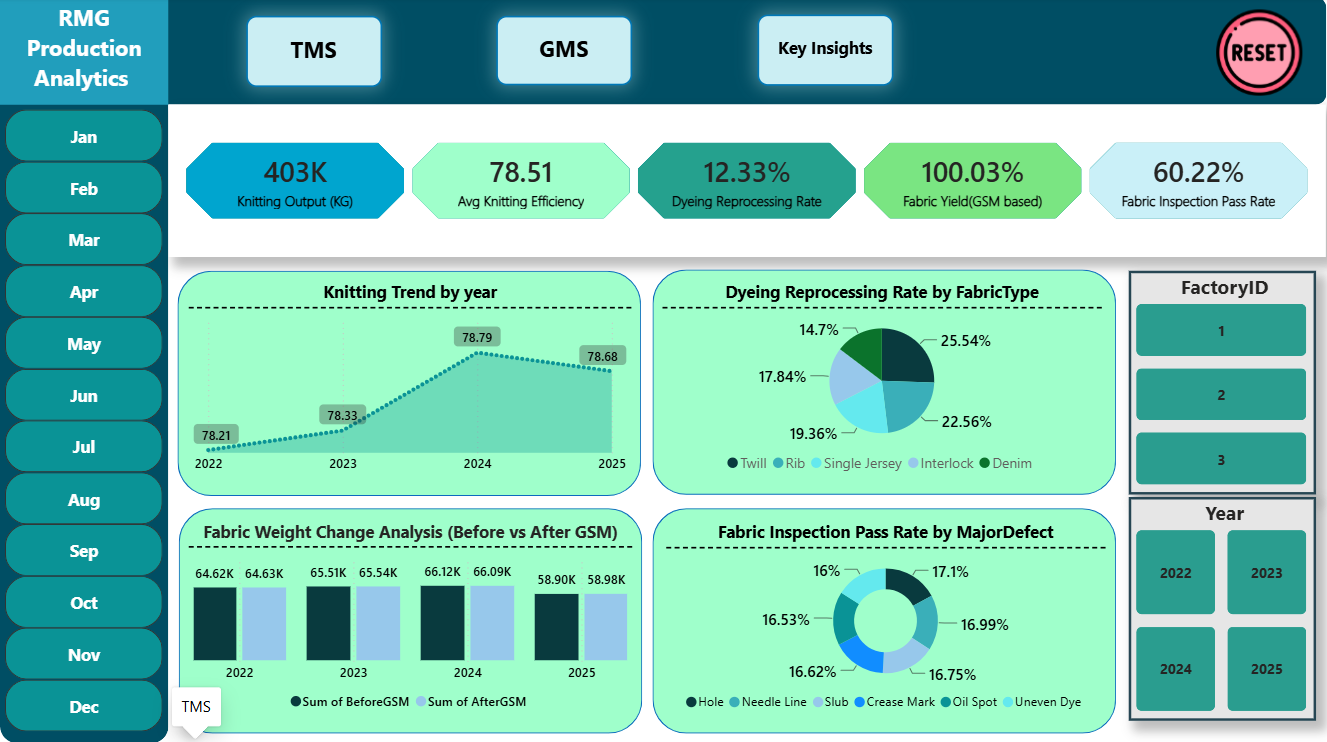

The dashboard page shown, as its layout file describes it:
{"tool":"powerbi","page":{"name":"TMS","canvas":[1280,720],"ordinal":0},"visuals":[{"type":"shape","box":[0,0,1280.3,103.9],"z":0},{"type":"shape","box":[0,0,162.6,720.2],"z":1000},{"type":"textbox","box":[0,0,162.6,103.9],"z":2000},{"type":"cardVisual","fields":{"Data":["All measure table.Knitting Output (KG)","All measure table.Avg Knitting Efficiency","All measure table.Dyeing Reprocessing Rate","All measure table.Fabric Yield(GSM based)","All measure table.Fabric Inspection Pass Rate"]},"box":[162.9,103.8,1117.2,147.2],"z":3000},{"type":"shape","box":[171.2,263.8,447.5,217.5],"z":4000},{"type":"listSlicer","fields":{"Values":["dim_date.MonthName"]},"box":[447.5,581.2,162.5,138.8],"z":5000},{"type":"advancedSlicerVisual","fields":{"Values":["dim_date.MonthName"]},"box":[0,103.8,162.5,616.2],"z":6000},{"type":"stackedAreaChart","title":"Knitting Trend by  year ","fields":{"Category":["dim_date.Year"],"Y":["All measure table.Avg Knitting Efficiency"]},"box":[182.5,272.5,427.5,196.2],"z":7000},{"type":"shape","box":[630,262.5,447.5,217.5],"z":8000},{"type":"shape","box":[172.5,493.8,447.5,217.5],"z":9000},{"type":"shape","box":[630,493.8,447.5,217.5],"z":10000},{"type":"pieChart","fields":{"Category":["fact_dyeing.FabricType"],"Y":["All measure table.Dyeing Reprocessing Rate"]},"box":[640,272.5,423.8,196.2],"z":11000},{"type":"clusteredColumnChart","title":"Fabric Weight Change Analysis (Before vs After GSM)","fields":{"Category":["dim_date.Year"],"Y":["Sum(fact_fabric_finishing.BeforeGSM)","Sum(fact_fabric_finishing.AfterGSM)"]},"box":[182.2,504.3,428.3,194.2],"z":12000},{"type":"donutChart","fields":{"Category":["fact_fabric_inspection.MajorDefect"],"Y":["All measure table.Fabric Inspection Pass Rate"]},"box":[643.2,504.2,423.6,194.9],"z":13000},{"type":"advancedSlicerVisual","fields":{"Values":["dim_factory.FactoryID"]},"box":[1089.2,264.1,180.7,216.1],"z":14000},{"type":"advancedSlicerVisual","fields":{"Values":["dim_date.Year"]},"box":[1089.2,482.7,180.7,216.1],"z":15000},{"type":"actionButton","title":"TMS","box":[237.7,18.1,131,68.8],"z":16000},{"type":"actionButton","title":"GMS","box":[479,18.1,131.5,67.6],"z":17000},{"type":"actionButton","box":[731.1,16.9,131.5,68.8],"z":18000},{"type":"actionButton","box":[1161.8,0,118.2,107.4],"z":19000}]}

Visuals, with their boxes in screenshot pixels (x1, y1, x2, y2), scaled from the page's 1280x720 canvas onto the 1327x742 screenshot:
shape: left=0, top=0, right=1326, bottom=107
shape: left=0, top=0, right=169, bottom=741
textbox: left=0, top=0, right=169, bottom=107
cardVisual - All measure table.Knitting Output (KG) x All measure table.Avg Knitting Efficiency: left=169, top=107, right=1326, bottom=259
shape: left=177, top=272, right=641, bottom=496
listSlicer - dim_date.MonthName: left=464, top=599, right=632, bottom=741
advancedSlicerVisual - dim_date.MonthName: left=0, top=107, right=168, bottom=741
"Knitting Trend by  year " stackedAreaChart: left=189, top=281, right=632, bottom=483
shape: left=653, top=271, right=1117, bottom=495
shape: left=179, top=509, right=643, bottom=733
shape: left=653, top=509, right=1117, bottom=733
pieChart - fact_dyeing.FabricType x All measure table.Dyeing Reprocessing Rate: left=664, top=281, right=1103, bottom=483
"Fabric Weight Change Analysis (Before vs After GSM)" clusteredColumnChart: left=189, top=520, right=633, bottom=720
donutChart - fact_fabric_inspection.MajorDefect x All measure table.Fabric Inspection Pass Rate: left=667, top=520, right=1106, bottom=720
advancedSlicerVisual - dim_factory.FactoryID: left=1129, top=272, right=1317, bottom=495
advancedSlicerVisual - dim_date.Year: left=1129, top=497, right=1317, bottom=720
"TMS" actionButton: left=246, top=19, right=382, bottom=90
"GMS" actionButton: left=497, top=19, right=633, bottom=88
actionButton: left=758, top=17, right=894, bottom=88
actionButton: left=1204, top=0, right=1326, bottom=111
